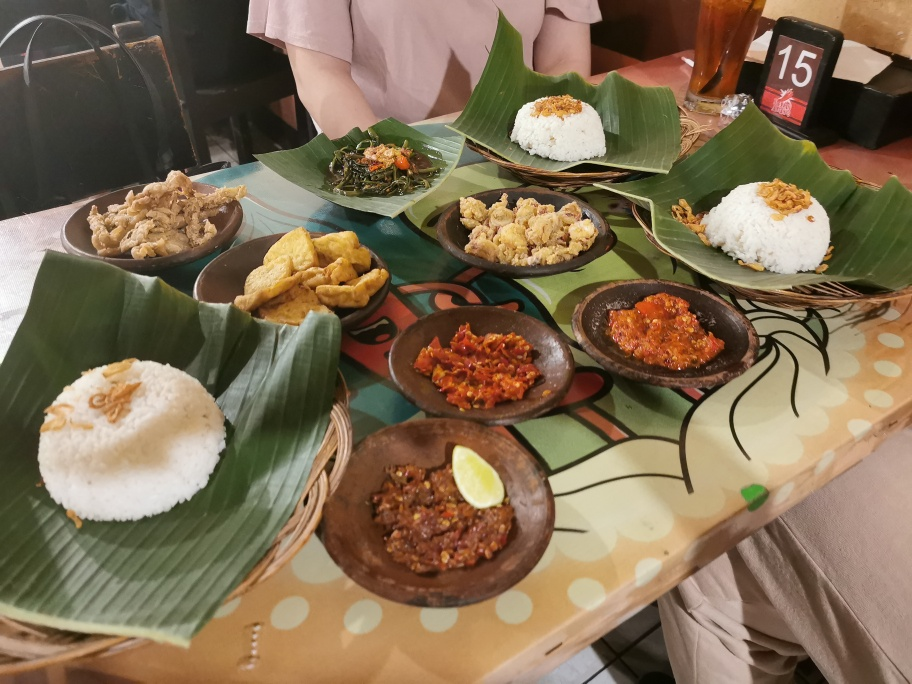nasi putih: (36, 354, 222, 524), (703, 176, 832, 275), (508, 90, 609, 165)
